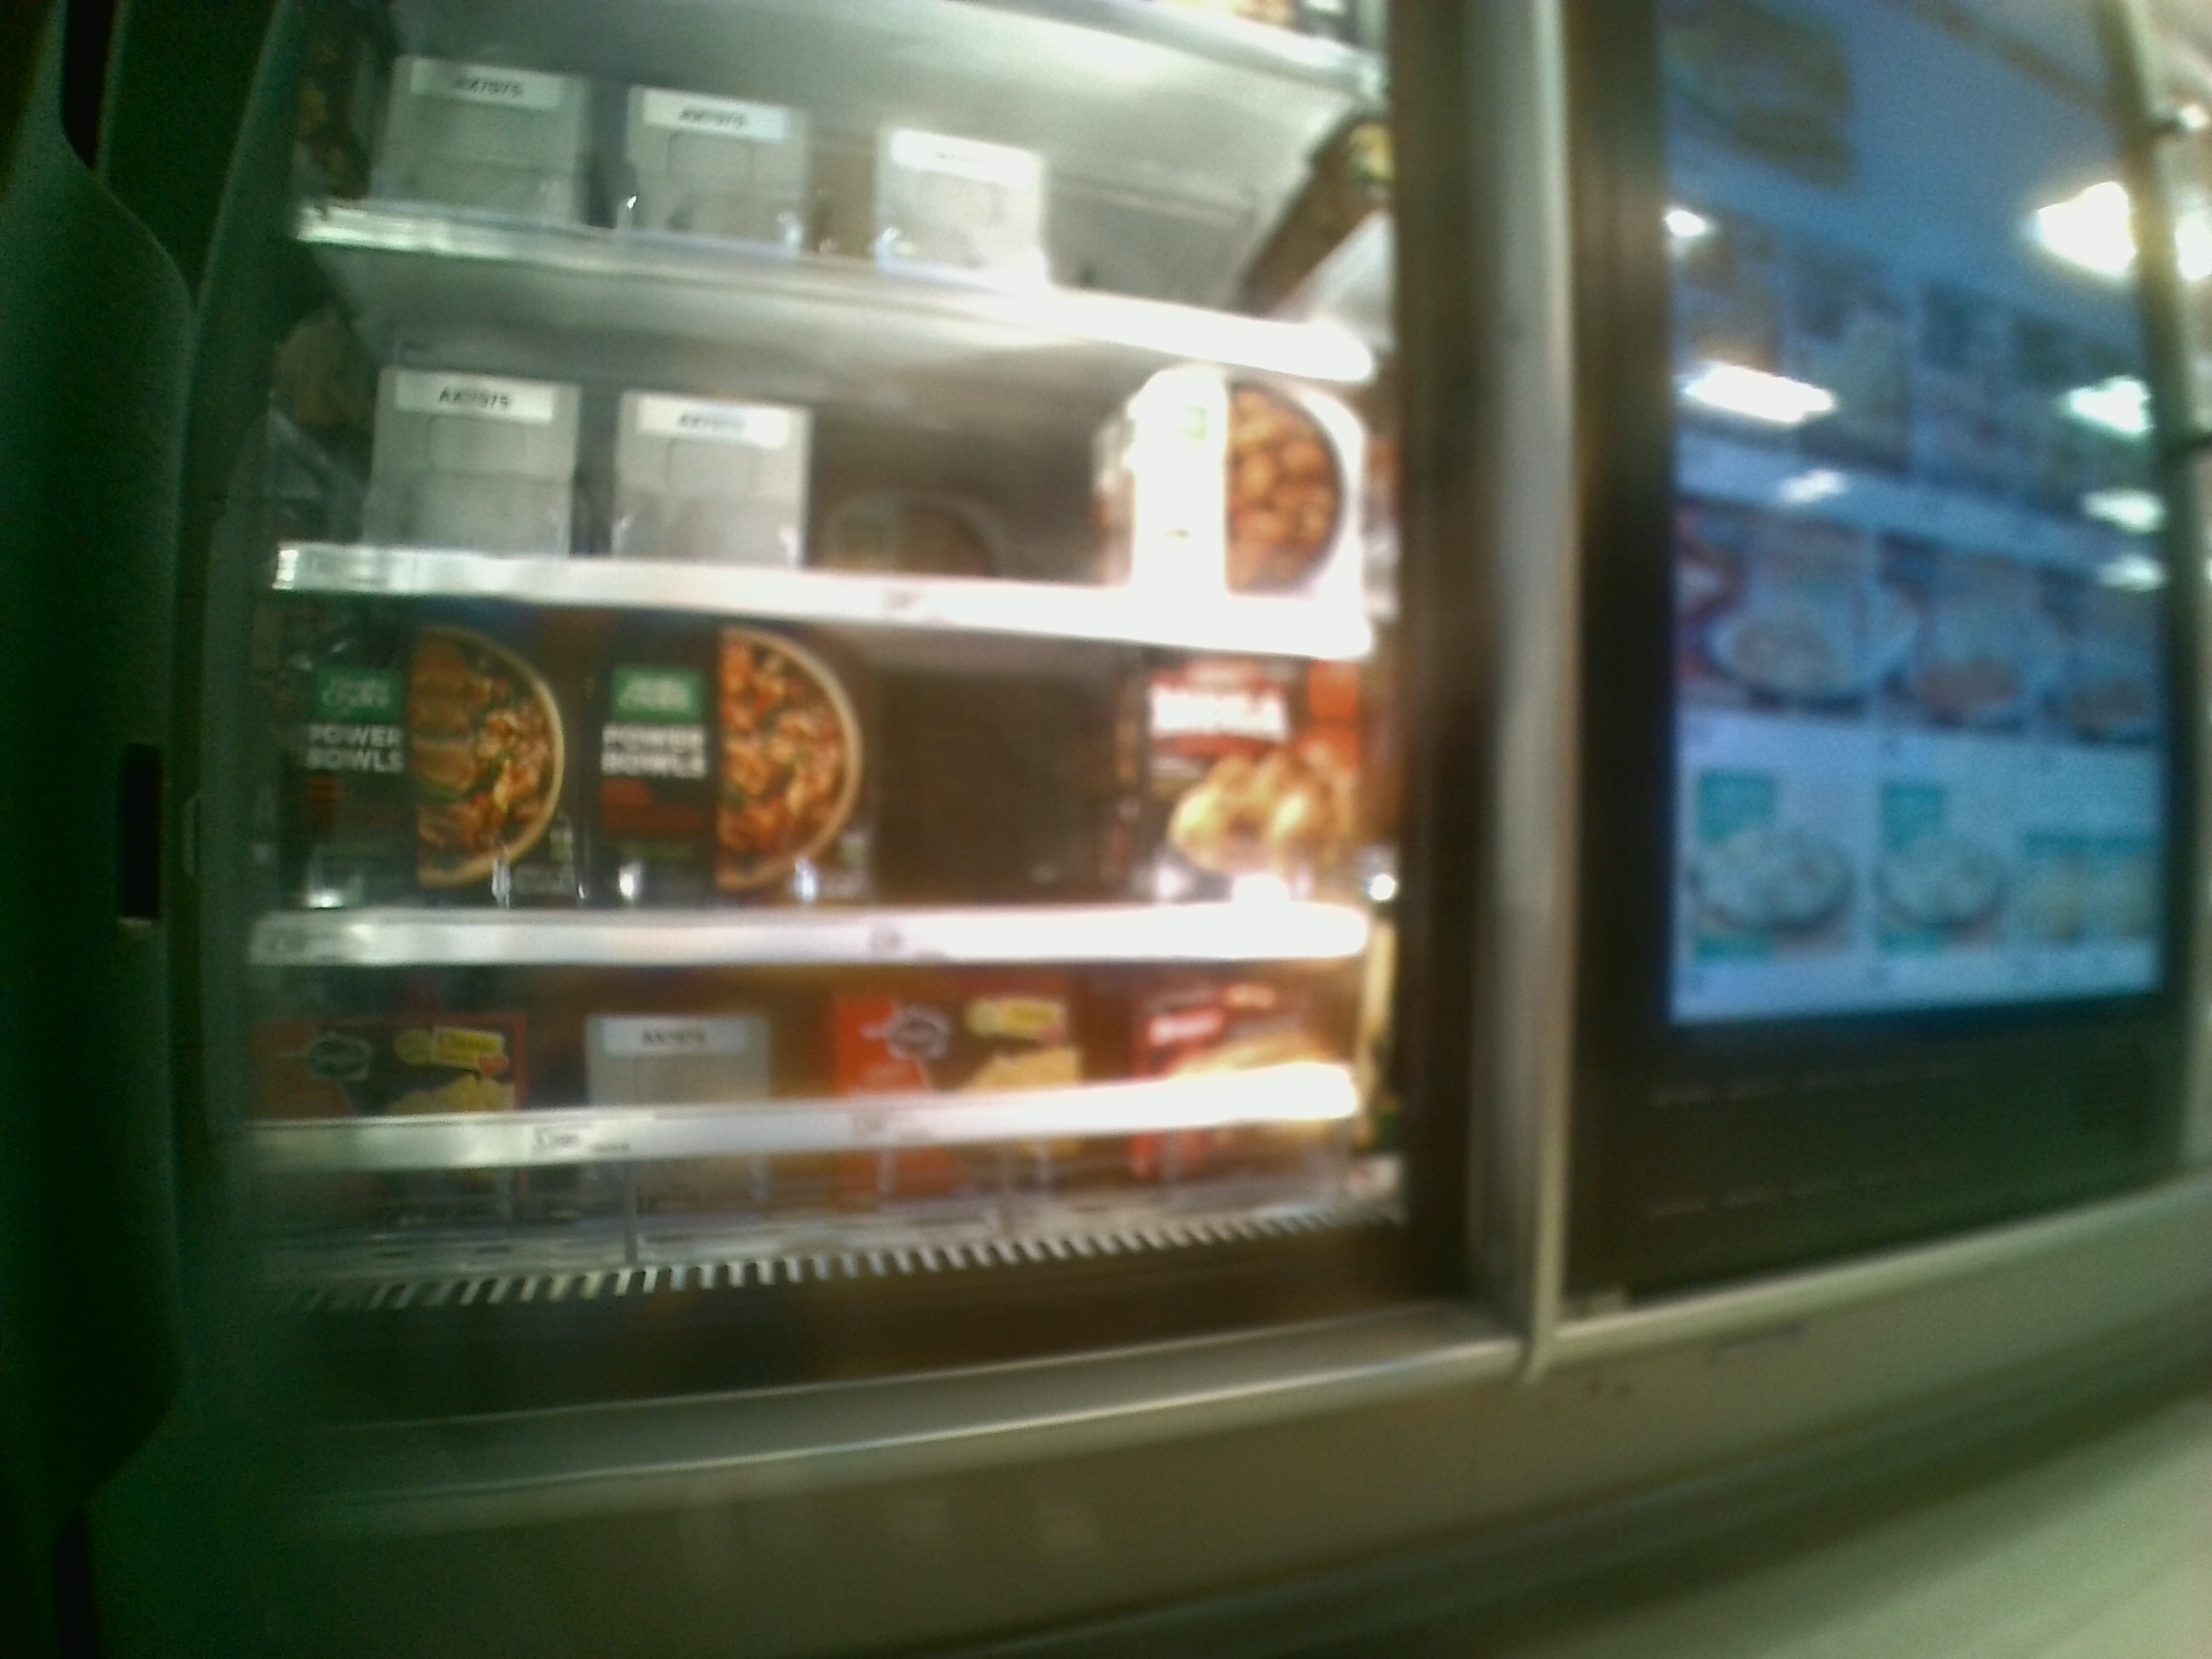Shelf: (289, 239, 1385, 653), (263, 592, 1388, 958), (239, 967, 1406, 1303)
